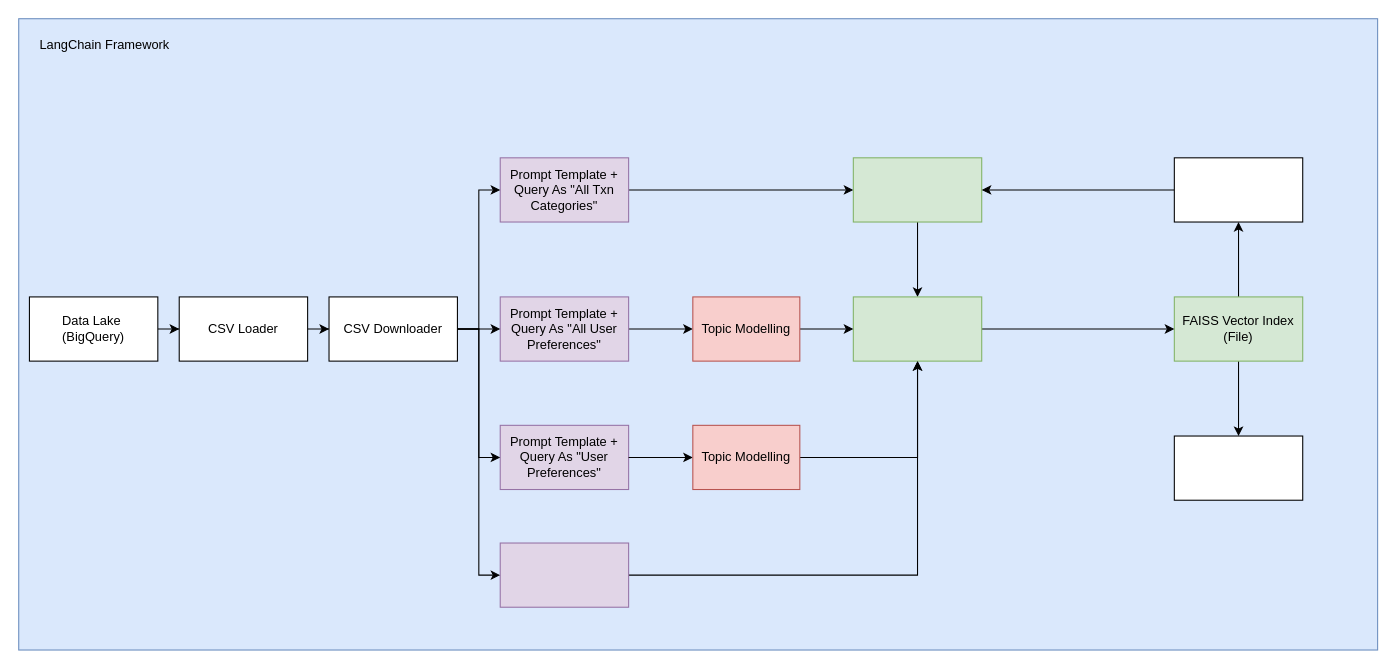
Image size: 1396x669. Some labels were removed from this diagram. Each missing label, with the box of its shape:
Hugging face Transformer Embedding: (852, 296, 982, 361)
List of transaction with personalized category: (1173, 435, 1303, 500)
OpenAI API +LLM: (852, 157, 982, 222)
Prompt Template + "Using chunks of users info": (1173, 157, 1303, 222)
Prompt Template + Query As "User Preferences with Transaction Info": (499, 542, 629, 607)
